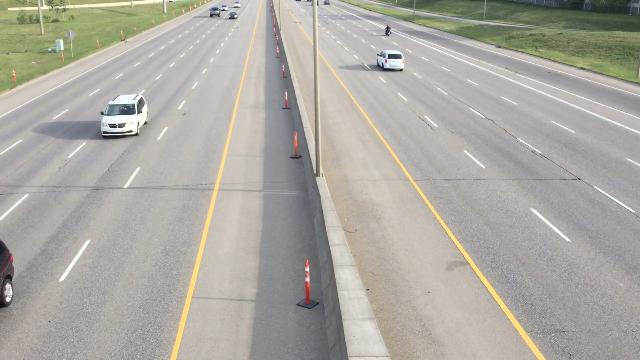car: (99, 92, 149, 142), (376, 48, 406, 73), (209, 7, 221, 17), (227, 11, 237, 19), (219, 3, 228, 11)
motorcycle: (384, 24, 392, 36)
